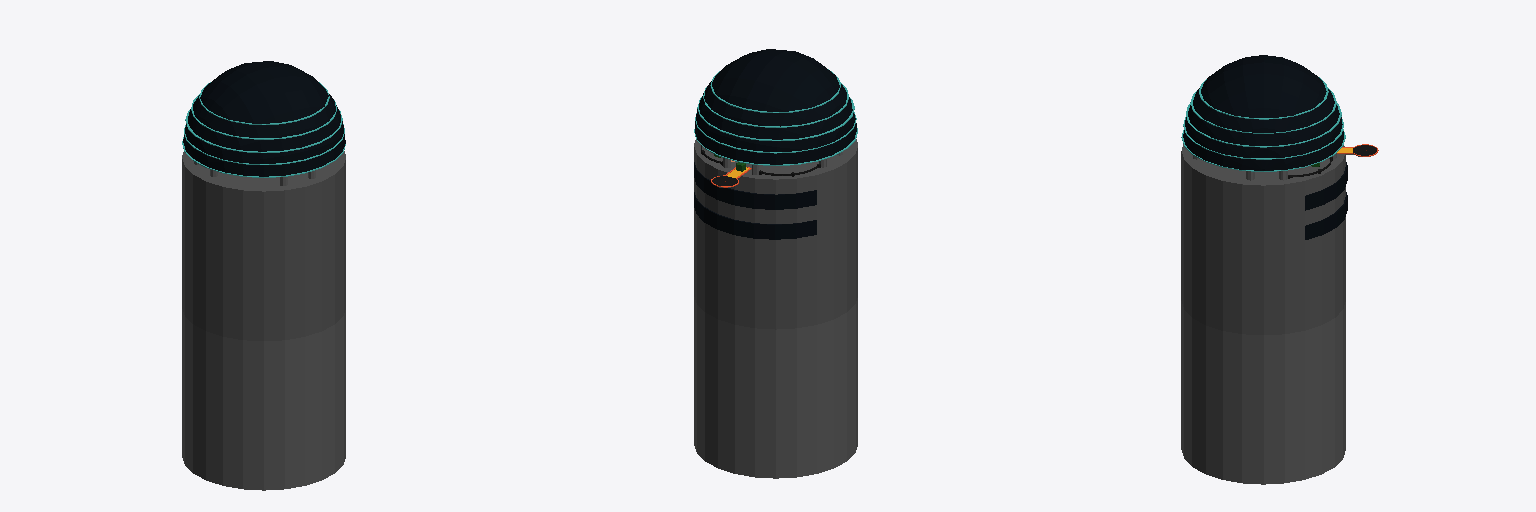
The model's file is CapsuleSpacePort.obj.
The picture shows the model from 3 angles: view 1: azimuth 30°, elevation 25°; view 2: azimuth 150°, elevation 25°; view 3: azimuth 270°, elevation 25°; orthographic projection.
Visible parts, largest first — view 1: cylinder_full_25, cylinder_full_48, sphere_dome_14, cylinder_full_16; view 2: cylinder_full_25, cylinder_full_48, sphere_dome_14, cylinder_full_49, cylinder_full_10, cylinder_full_16; view 3: cylinder_full_25, cylinder_full_48, sphere_dome_14, cylinder_full_16, cylinder_full_49, cylinder_full_10.
Part boxes in pixels (left/top/right/bottom): cylinder_full_25: left=182, top=309, right=345, bottom=490; cylinder_full_48: left=182, top=160, right=345, bottom=340; sphere_dome_14: left=183, top=61, right=345, bottom=176; cylinder_full_16: left=182, top=151, right=345, bottom=191; cylinder_full_25: left=694, top=297, right=857, bottom=478; cylinder_full_48: left=694, top=148, right=857, bottom=329; sphere_dome_14: left=695, top=49, right=856, bottom=164; cylinder_full_49: left=694, top=192, right=816, bottom=239; cylinder_full_10: left=694, top=162, right=816, bottom=209; cylinder_full_16: left=694, top=139, right=857, bottom=179; cylinder_full_25: left=1181, top=301, right=1345, bottom=484; cylinder_full_48: left=1181, top=152, right=1345, bottom=334; sphere_dome_14: left=1183, top=55, right=1343, bottom=170; cylinder_full_16: left=1181, top=144, right=1344, bottom=185; cylinder_full_49: left=1305, top=192, right=1347, bottom=239; cylinder_full_10: left=1305, top=162, right=1347, bottom=210.
Size of the model in its own units: 20 by 52 by 23.96.